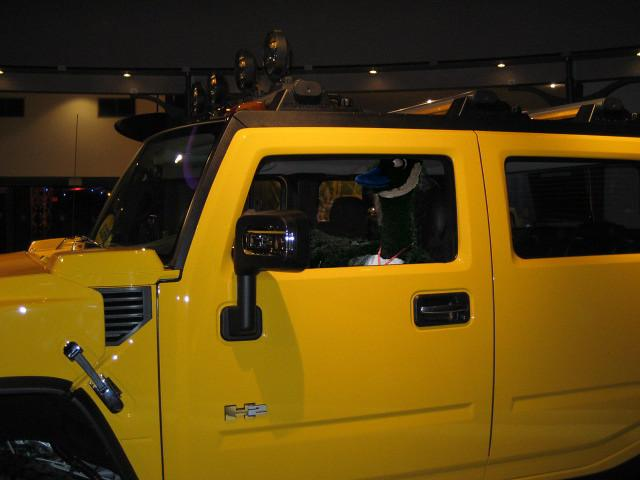car: (1, 29, 640, 480)
